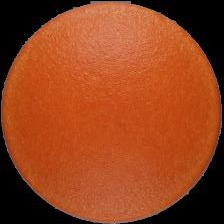0781-1438: (0, 0, 224, 224)
